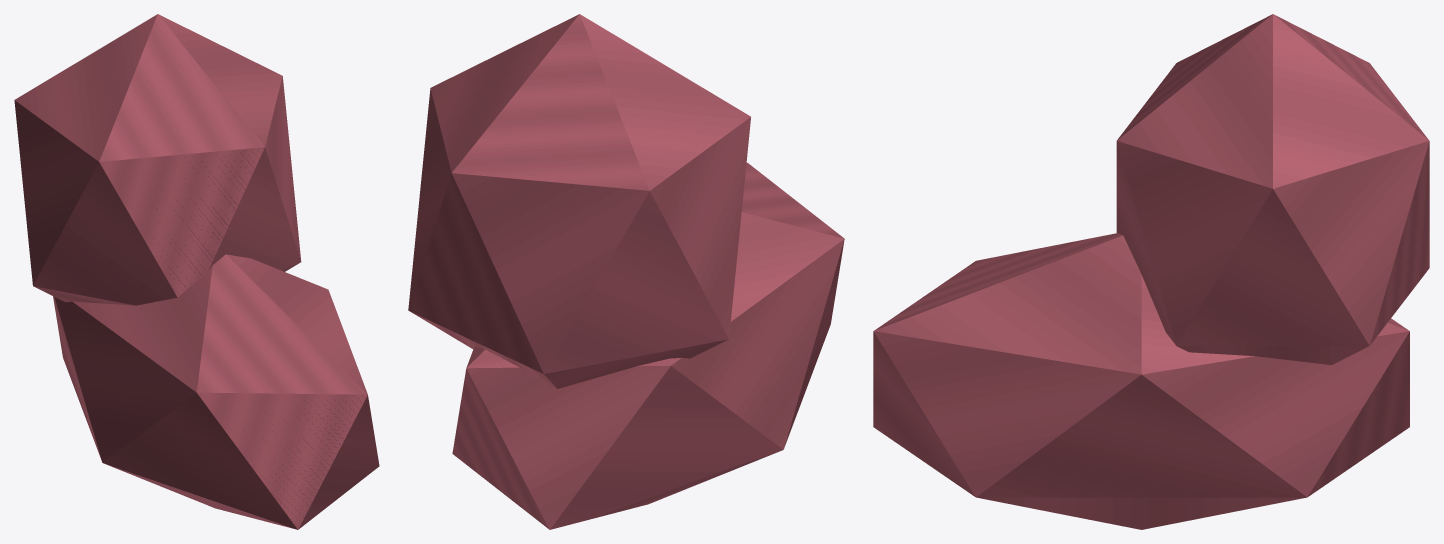
Rendered from wall_quake.glb.
The picture shows the model from 3 angles, left to right: view 1: azimuth 30°, elevation 25°; view 2: azimuth 150°, elevation 25°; view 3: azimuth 270°, elevation 25°; orthographic projection. The views are drawn at different scales.
Visible parts, largest first — view 1: gear_wall_quake; view 2: gear_wall_quake; view 3: gear_wall_quake.
Part boxes in pixels (x1=…): gear_wall_quake: x1=14, y1=14, x2=379, y2=529; gear_wall_quake: x1=408, y1=14, x2=844, y2=529; gear_wall_quake: x1=873, y1=14, x2=1429, y2=529.
Size of the model in its own units: 0.1878 by 0.325 by 0.3174.
1 material, 1 textured.
